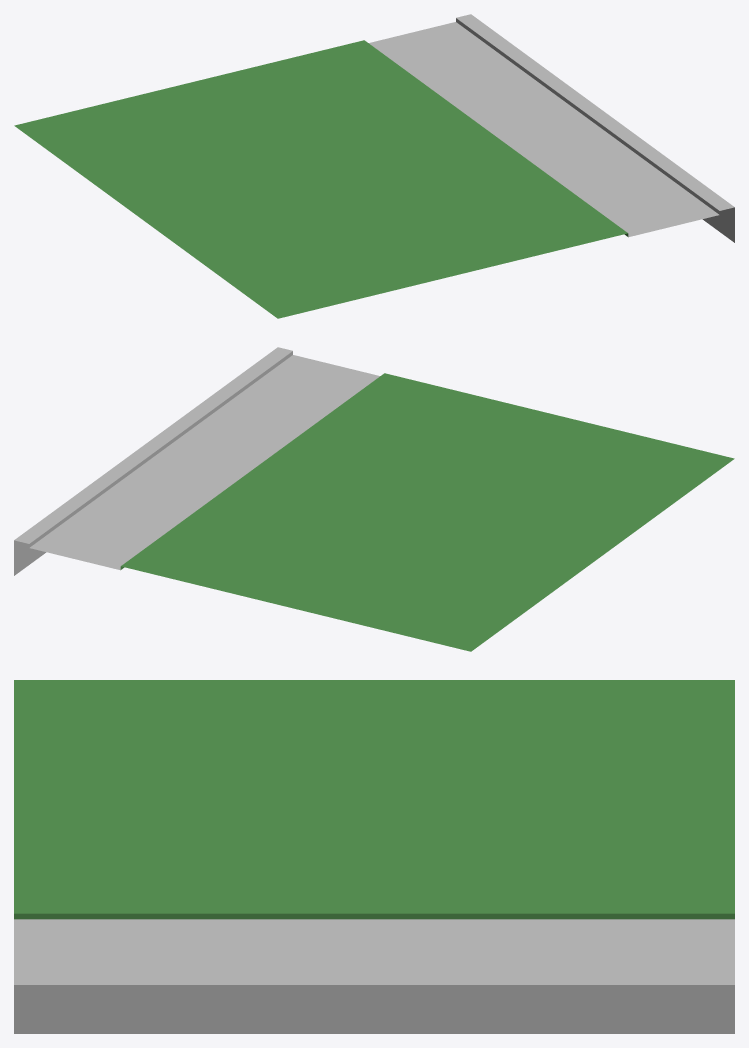
File: goodOriginSidewalk.fbx
3 views of the same model, one above another, from view 1: azimuth 30°, elevation 25°; view 2: azimuth 150°, elevation 25°; view 3: azimuth 270°, elevation 25° (orthographic). The views are drawn at different scales.
Parts seen in each view (by area): view 1: Cube; view 2: Cube; view 3: Cube.
Part boxes in pixels (x1,y1,x2,y2): Cube: (14, 14, 734, 318); Cube: (14, 347, 734, 651); Cube: (14, 680, 734, 1033).
Size of the model in its own units: 600 by 45 by 600.
